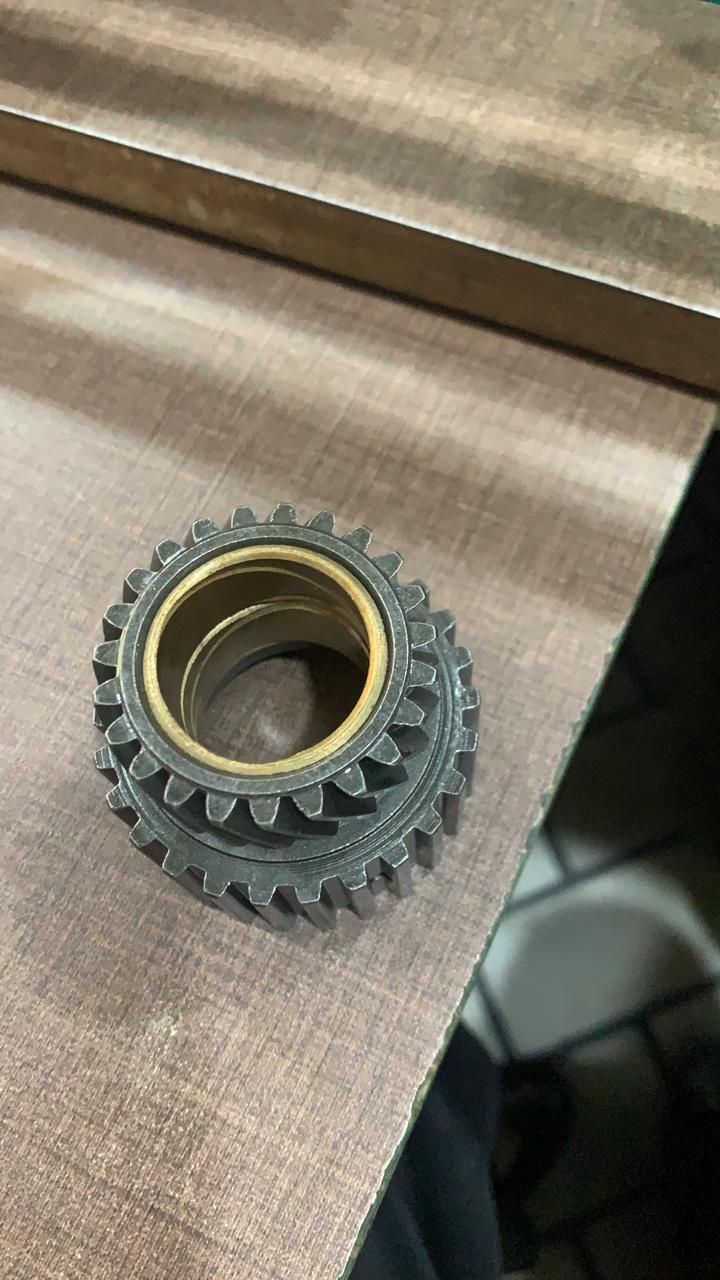engine gear alfa: (56, 489, 581, 983)
